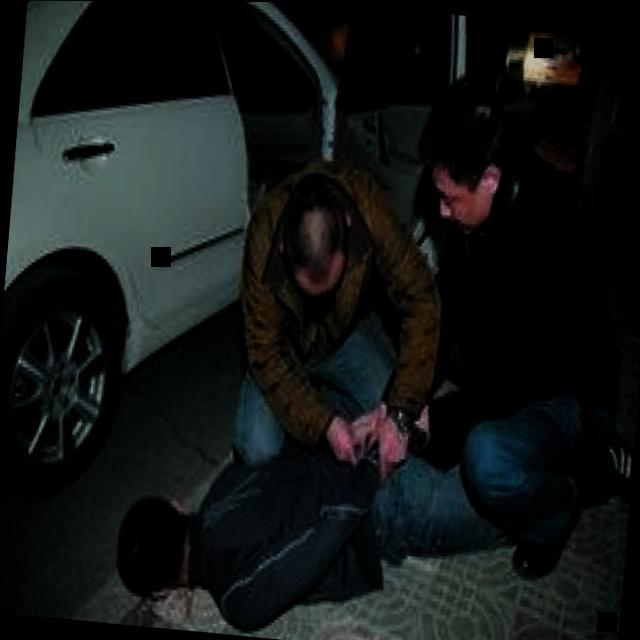Fall-Detected: (95, 356, 555, 640)
